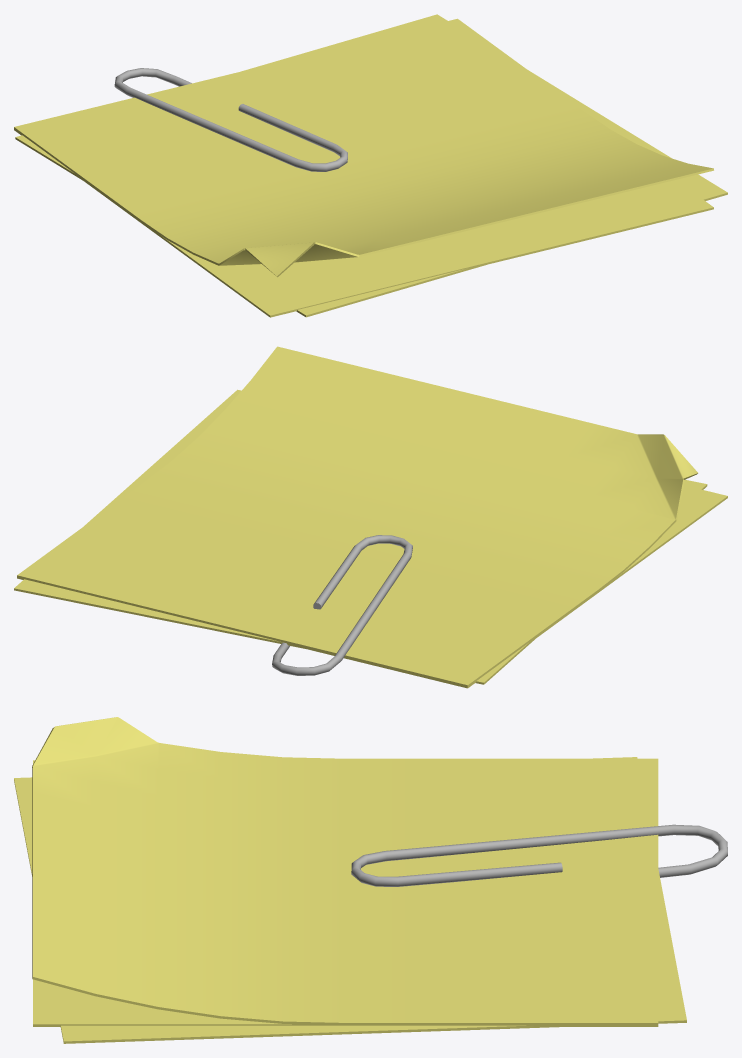
Rendered from ClippedPaper_exp.fbx.
3 views of the same model, one above another, from view 1: azimuth 30°, elevation 25°; view 2: azimuth 150°, elevation 25°; view 3: azimuth 270°, elevation 25° (orthographic). The views are drawn at different scales.
Parts seen in each view (by area): view 1: Plane.004; view 2: Plane.004; view 3: Plane.004.
Boxes of the visible parts, x1,y1,x2,y2 form: Plane.004: (14,14,727,317); Plane.004: (14,346,727,688); Plane.004: (14,717,727,1043).
Bounding box in the file's own units: 125 × 16 × 132.
